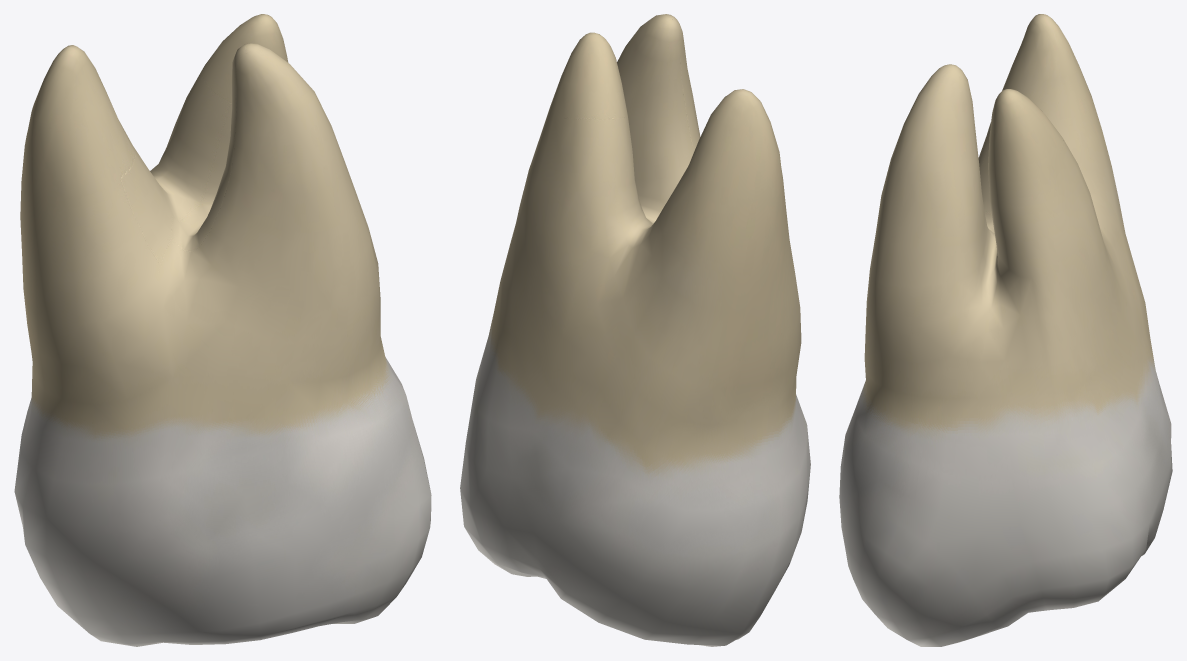
Rendered from tooth-28.glb.
3 views of the same model, side by side, from view 1: azimuth 30°, elevation 25°; view 2: azimuth 150°, elevation 25°; view 3: azimuth 270°, elevation 25° (orthographic). The views are drawn at different scales.
Parts seen in each view (by area): view 1: ZBrushPolyMesh3D7_blinn20_0; view 2: ZBrushPolyMesh3D7_blinn20_0; view 3: ZBrushPolyMesh3D7_blinn20_0.
Part boxes in pixels (left/top/right/bottom): ZBrushPolyMesh3D7_blinn20_0: left=14, top=14, right=431, bottom=646; ZBrushPolyMesh3D7_blinn20_0: left=460, top=14, right=810, bottom=646; ZBrushPolyMesh3D7_blinn20_0: left=839, top=14, right=1172, bottom=646.
Size of the model in its own units: 0.3004 by 0.5139 by 0.2822.
1 material, 1 textured.
